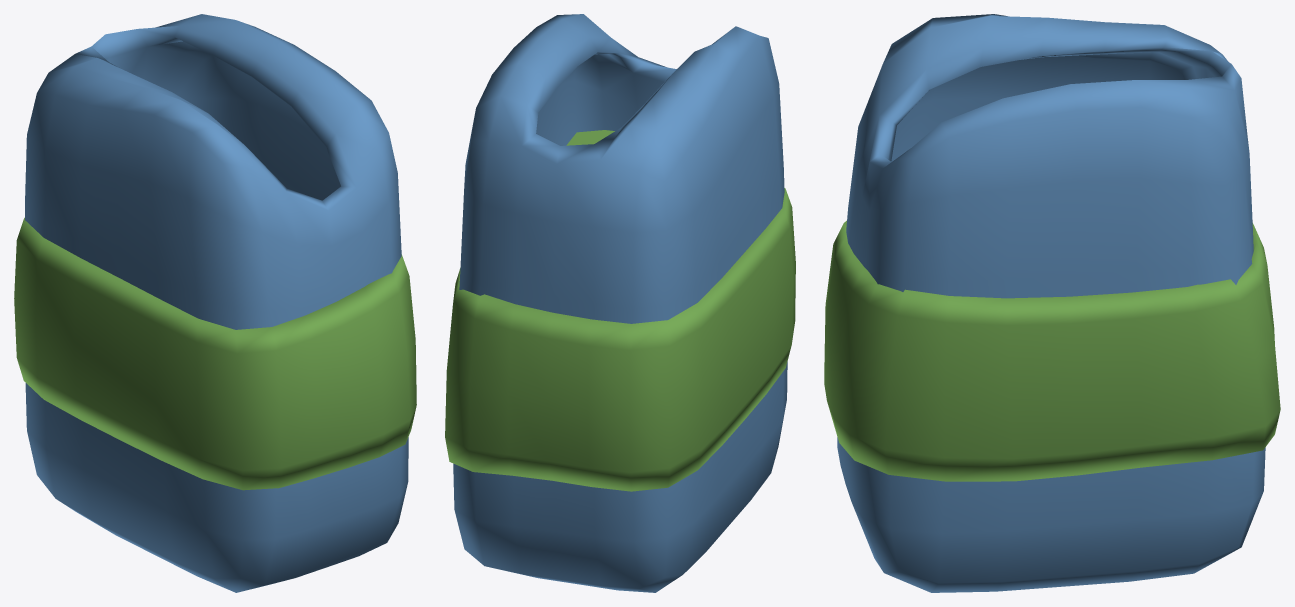
Rendered from yerba_cocina.glb.
3 views of the same model, side by side, from view 1: azimuth 30°, elevation 25°; view 2: azimuth 150°, elevation 25°; view 3: azimuth 270°, elevation 25° (orthographic). The views are drawn at different scales.
Parts seen in each view (by area): view 1: yerba; view 2: yerba; view 3: yerba.
Boxes of the visible parts, bbox=[...] form: yerba: bbox=[14, 14, 416, 592]; yerba: bbox=[445, 14, 795, 592]; yerba: bbox=[824, 14, 1280, 592].
Size of what is drawn, in the model's own units: 0.4465 by 0.7781 by 0.6363.
